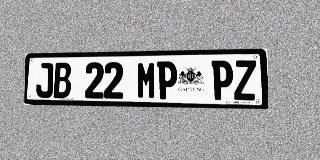2: (85, 62, 104, 99), (104, 62, 123, 99)
B: (53, 63, 71, 98)
J: (36, 63, 53, 98)
M: (137, 61, 156, 99)
P: (211, 60, 233, 100), (157, 61, 177, 99)
Z: (234, 60, 256, 100)
